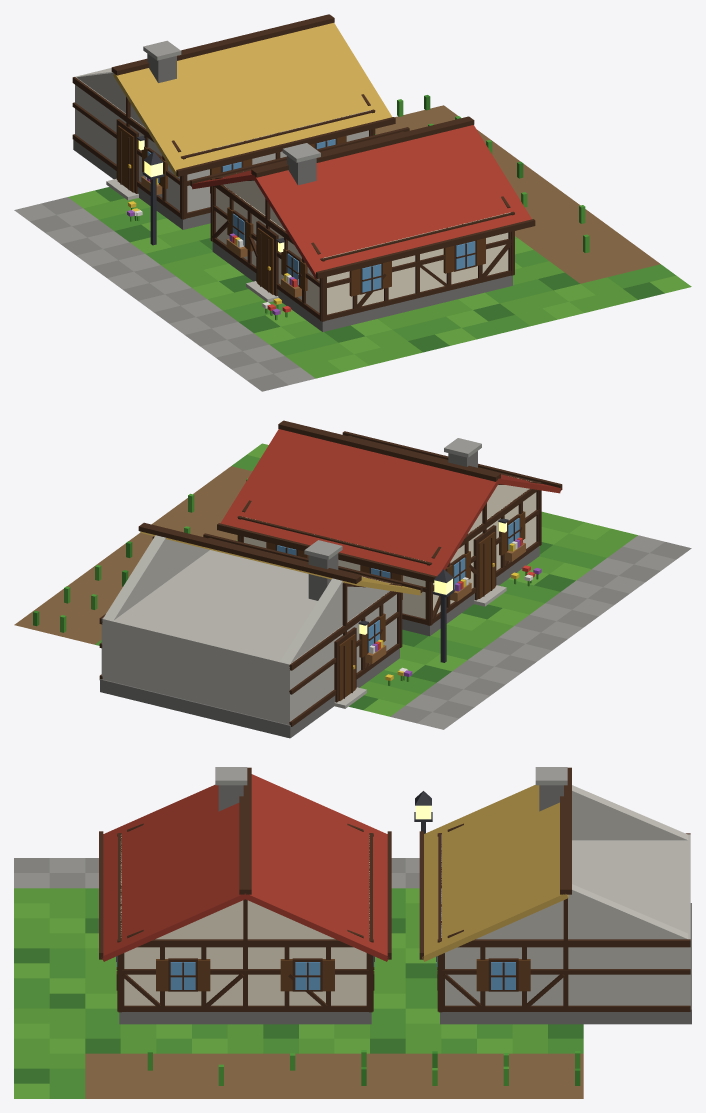
File: chunk_6_13.glb
3 renders of one model, top to bottom at view 1: azimuth 30°, elevation 25°; view 2: azimuth 150°, elevation 25°; view 3: azimuth 270°, elevation 25°, orthographic. The views are drawn at different scales.
Parts seen in each view (by area): view 1: chunk_6_13; view 2: chunk_6_13; view 3: chunk_6_13.
Boxes of the visible parts, x1,y1,x2,y2 form: chunk_6_13: (14, 14, 691, 391); chunk_6_13: (14, 420, 691, 738); chunk_6_13: (14, 767, 691, 1098).
Size of the model in its own units: 16 by 4.94 by 19.04.
